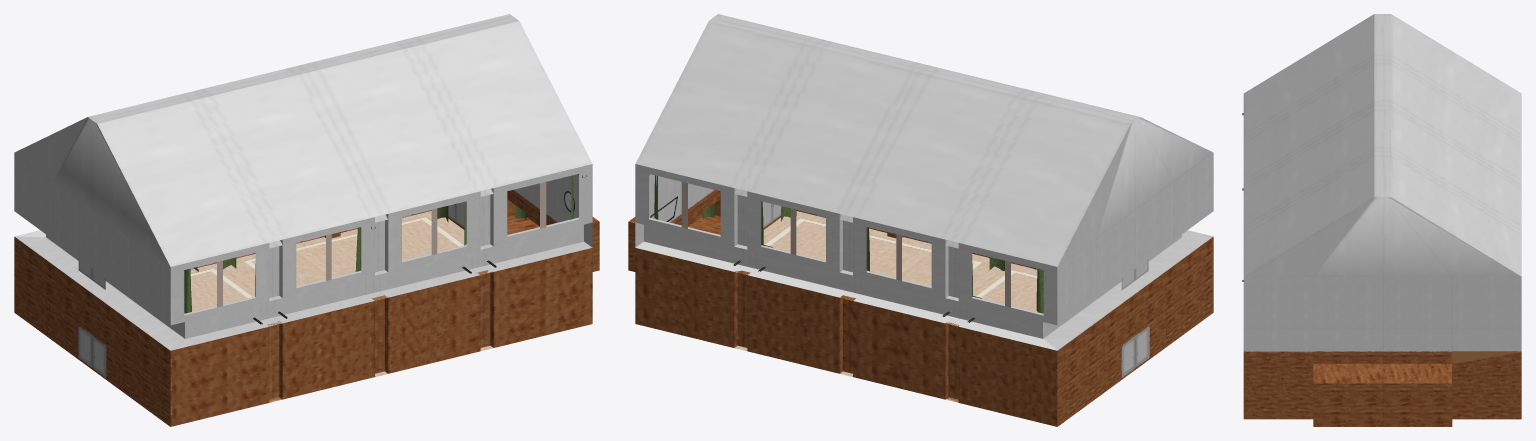
The model's file is school.fbx.
The picture shows the model from 3 angles, left to right: view 1: azimuth 30°, elevation 25°; view 2: azimuth 150°, elevation 25°; view 3: azimuth 270°, elevation 25°; orthographic projection. The views are drawn at different scales.
Visible parts, largest first — view 1: Tex1Parts014, Tex1Parts016, Tex1Parts017, Tex1Parts015; view 2: Tex1Parts014, Tex1Parts016, Tex1Parts017, Tex1Parts015; view 3: Tex1Parts014, Tex1Parts017, Tex1Parts016.
Boxes of the visible parts, box(x1,y1,x2,y2) form: Tex1Parts014: box(14, 14, 592, 266); Tex1Parts016: box(14, 190, 599, 426); Tex1Parts017: box(14, 153, 592, 350); Tex1Parts015: box(190, 211, 493, 402); Tex1Parts014: box(635, 14, 1213, 266); Tex1Parts016: box(628, 190, 1213, 426); Tex1Parts017: box(635, 153, 1213, 350); Tex1Parts015: box(734, 211, 1037, 402); Tex1Parts014: box(1243, 14, 1521, 276); Tex1Parts017: box(1243, 276, 1521, 351); Tex1Parts016: box(1243, 351, 1521, 426).
Bounding box in the file's own units: 1446 × 736 × 840.
Materials: 2 (2 with a texture image).
